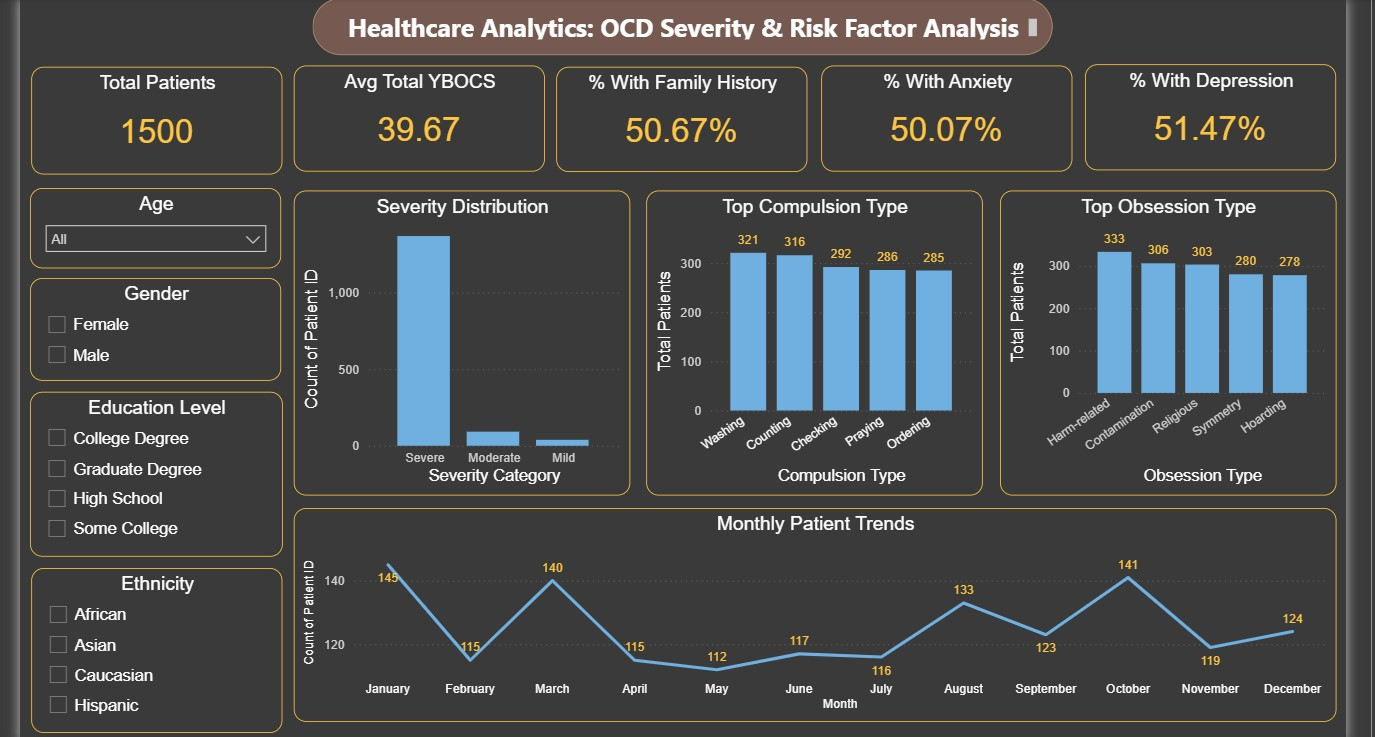

Layout of this report page (visuals, bound fields, positions):
{"tool":"powerbi","page":{"name":"Page 1","canvas":[1280,720],"ordinal":0},"visuals":[{"type":"card","title":"Total Patients","fields":{"Values":["CountNonNull(ocd_patient_dataset.Patient ID)"]},"box":[10.9,66.4,242.5,103.8],"z":0},{"type":"card","title":"Avg Total YBOCS","fields":{"Values":["ocd_patient_dataset.Avg Total YBOCS"]},"box":[264.2,65.1,242.5,102.5],"z":1000},{"type":"card","title":"% With Family History","fields":{"Values":["ocd_patient_dataset.% With Family History"]},"box":[517.6,66.4,242.5,101.3],"z":2000},{"type":"card","title":"% With Depression","fields":{"Values":["ocd_patient_dataset.% With Depression"]},"box":[1027.9,63.9,242.5,102.5],"z":3000},{"type":"card","title":"% With Anxiety","fields":{"Values":["ocd_patient_dataset.% With Anxiety"]},"box":[773.3,65.1,242.5,102.5],"z":4000},{"type":"clusteredColumnChart","title":"Top Compulsion Type","fields":{"Category":["ocd_patient_dataset.Compulsion Type"],"Y":["ocd_patient_dataset.Total Patients"]},"box":[604.4,185.8,324.5,294.4],"z":5002},{"type":"columnChart","title":"Top Obsession Type","fields":{"Y":["ocd_patient_dataset.Total Patients"],"Category":["ocd_patient_dataset.Obsession Type"]},"box":[945.8,185.8,324.5,294.4],"z":5003},{"type":"lineChart","title":" Monthly Patient Trends","fields":{"Category":["ocd_patient_dataset.OCD Diagnosis Date.Variation.Date Hierarchy.Month"],"Y":["CountNonNull(ocd_patient_dataset.Patient ID)"]},"box":[264.2,492.2,1006.2,206.3],"z":5004},{"type":"slicer","title":"Age","fields":{"Values":["ocd_patient_dataset.Age"]},"box":[9.7,183.4,242.5,77.2],"z":5005},{"type":"slicer","title":"Gender","fields":{"Values":["ocd_patient_dataset.Gender"]},"box":[9.7,270.2,242.5,98.9],"z":5006},{"type":"slicer","title":"Ethnicity","fields":{"Values":["ocd_patient_dataset.Ethnicity"]},"box":[10.9,550.1,242.5,159.3],"z":5007},{"type":"slicer","title":"Education Level","fields":{"Values":["ocd_patient_dataset.Education Level"]},"box":[9.7,380,243.7,159.3],"z":5008},{"type":"textbox","box":[282.3,0,714.2,55.5],"z":5009},{"type":"clusteredColumnChart","title":"  Severity Distribution","fields":{"Category":["ocd_patient_dataset.Severity Category"],"Y":["CountNonNull(ocd_patient_dataset.Patient ID)"]},"box":[264.2,185.8,324.5,294.4],"z":5010}]}

Visuals, with their boxes in screenshot pixels (x1, y1, x2, y2):
"Total Patients" card: 22 62 276 171
"Avg Total YBOCS" card: 287 61 541 168
"% With Family History" card: 553 62 807 168
"% With Depression" card: 1087 60 1341 167
"% With Anxiety" card: 821 61 1075 168
"Top Compulsion Type" clusteredColumnChart: 644 187 984 496
"Top Obsession Type" columnChart: 1001 187 1341 496
" Monthly Patient Trends" lineChart: 287 508 1341 724
"Age" slicer: 21 185 275 266
"Gender" slicer: 21 276 275 379
"Ethnicity" slicer: 22 569 276 736
"Education Level" slicer: 21 391 276 558
textbox: 306 0 1055 51
"  Severity Distribution" clusteredColumnChart: 287 187 627 496
